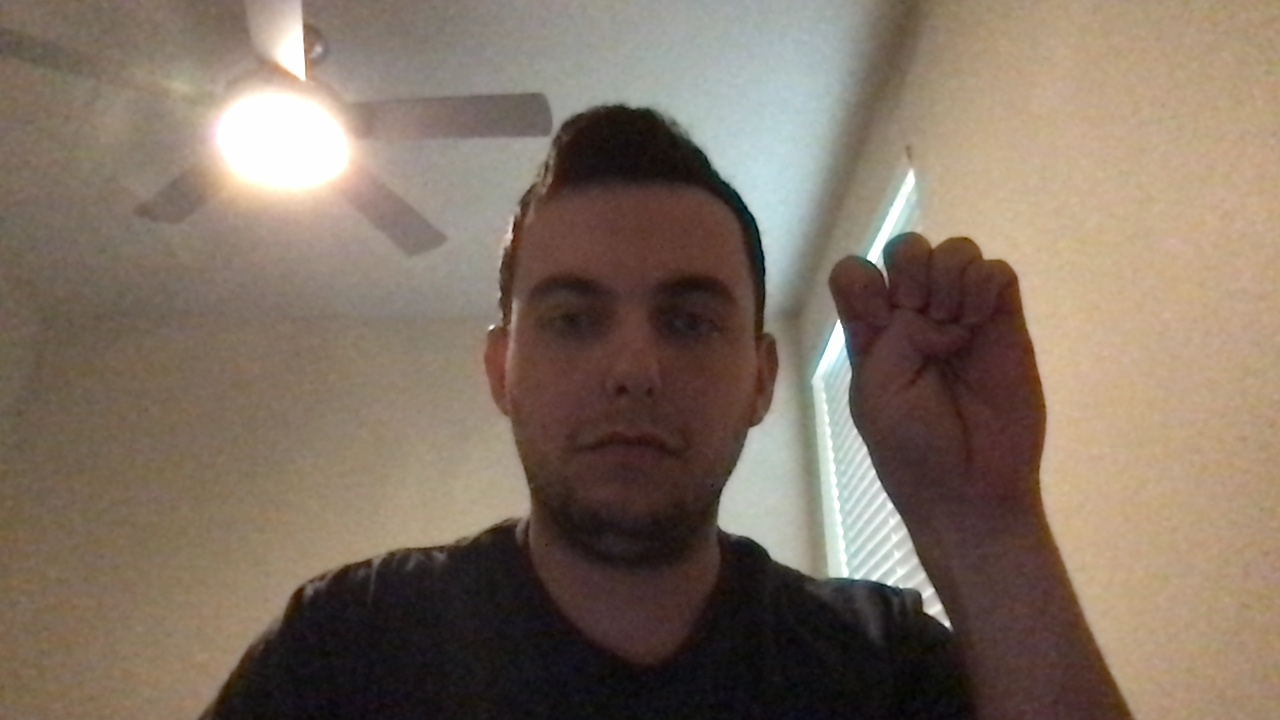e: (822, 221, 1075, 511)
